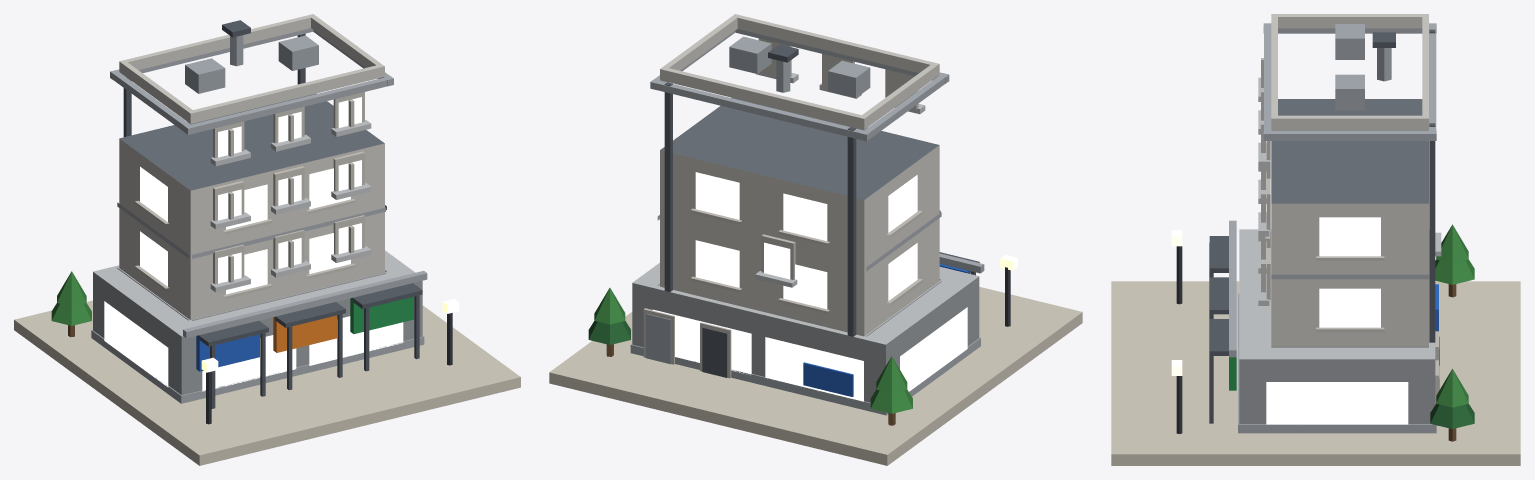
3 renders of one model, left to right at view 1: azimuth 30°, elevation 25°; view 2: azimuth 150°, elevation 25°; view 3: azimuth 270°, elevation 25°, orthographic. The views are drawn at different scales.
Parts seen in each view (by area): view 1: b09; view 2: b09; view 3: b09.
Boxes of the visible parts, bbox=[...] form: b09: bbox=[14, 14, 520, 465]; b09: bbox=[549, 14, 1082, 465]; b09: bbox=[1111, 14, 1520, 465].
Bounding box in the file's own units: 0.96 × 0.885 × 0.96.
